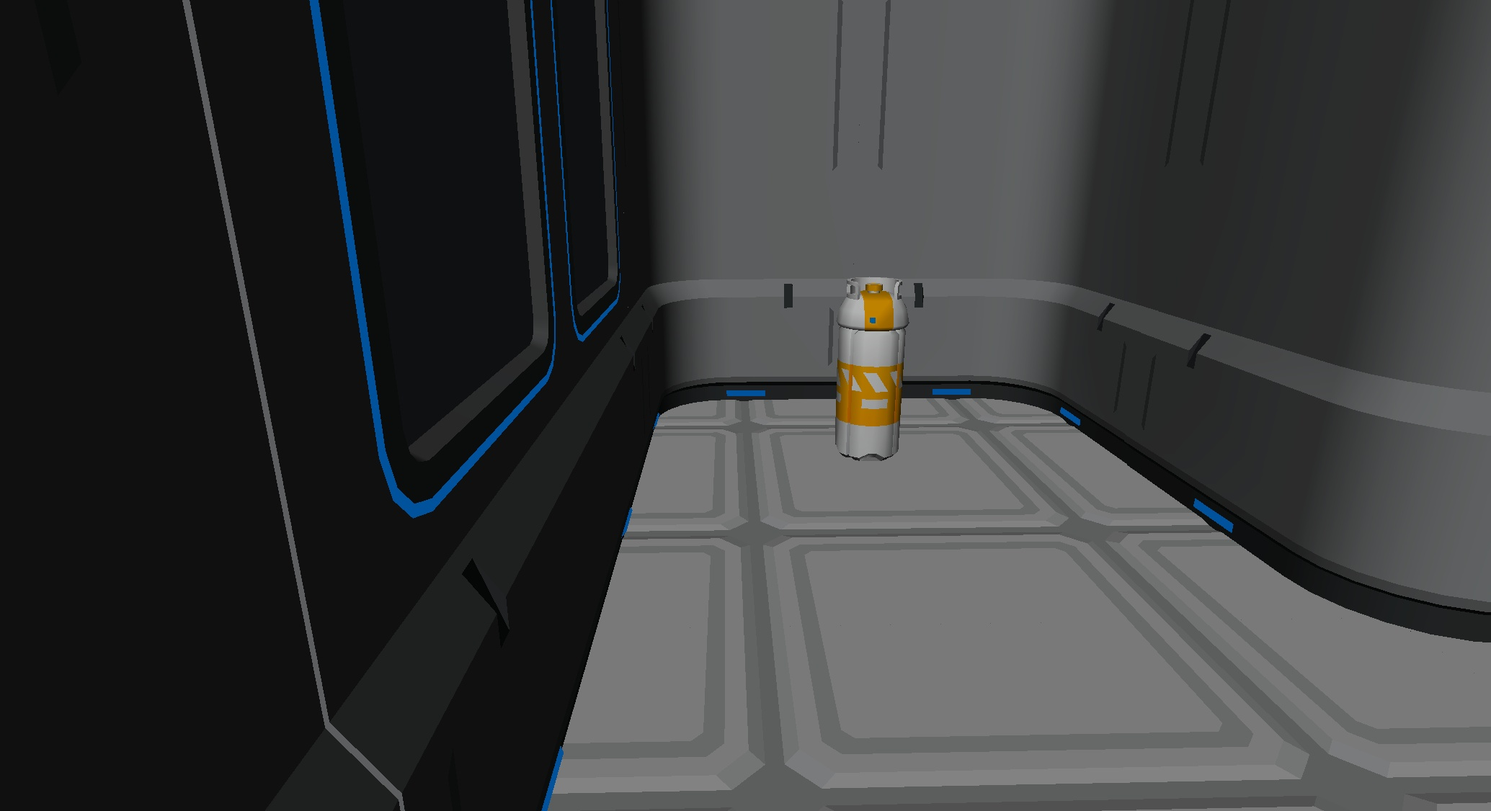yellow_barrel: (830, 277, 907, 460)
